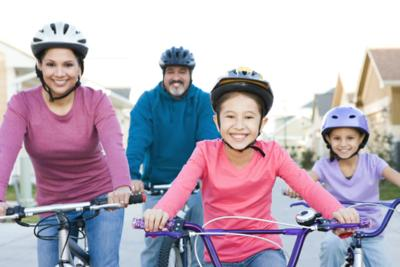With Helmet: (208, 65, 279, 153), (30, 16, 94, 106), (319, 104, 372, 159), (155, 42, 200, 97)
